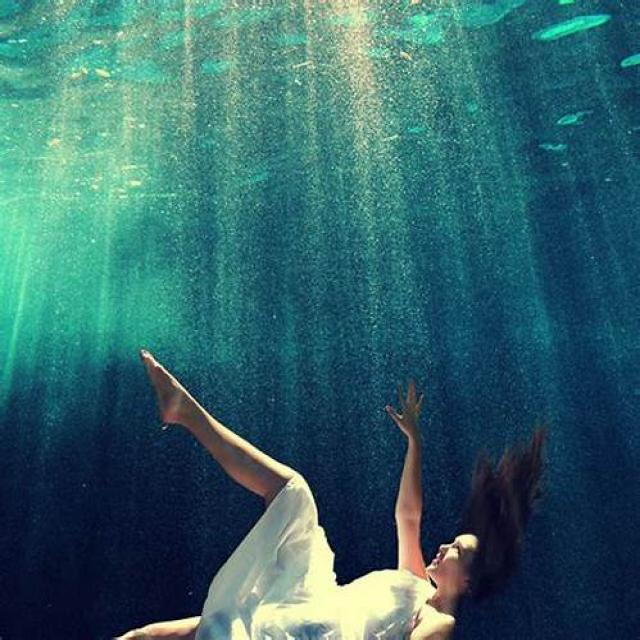drowning: (92, 261, 566, 640)
